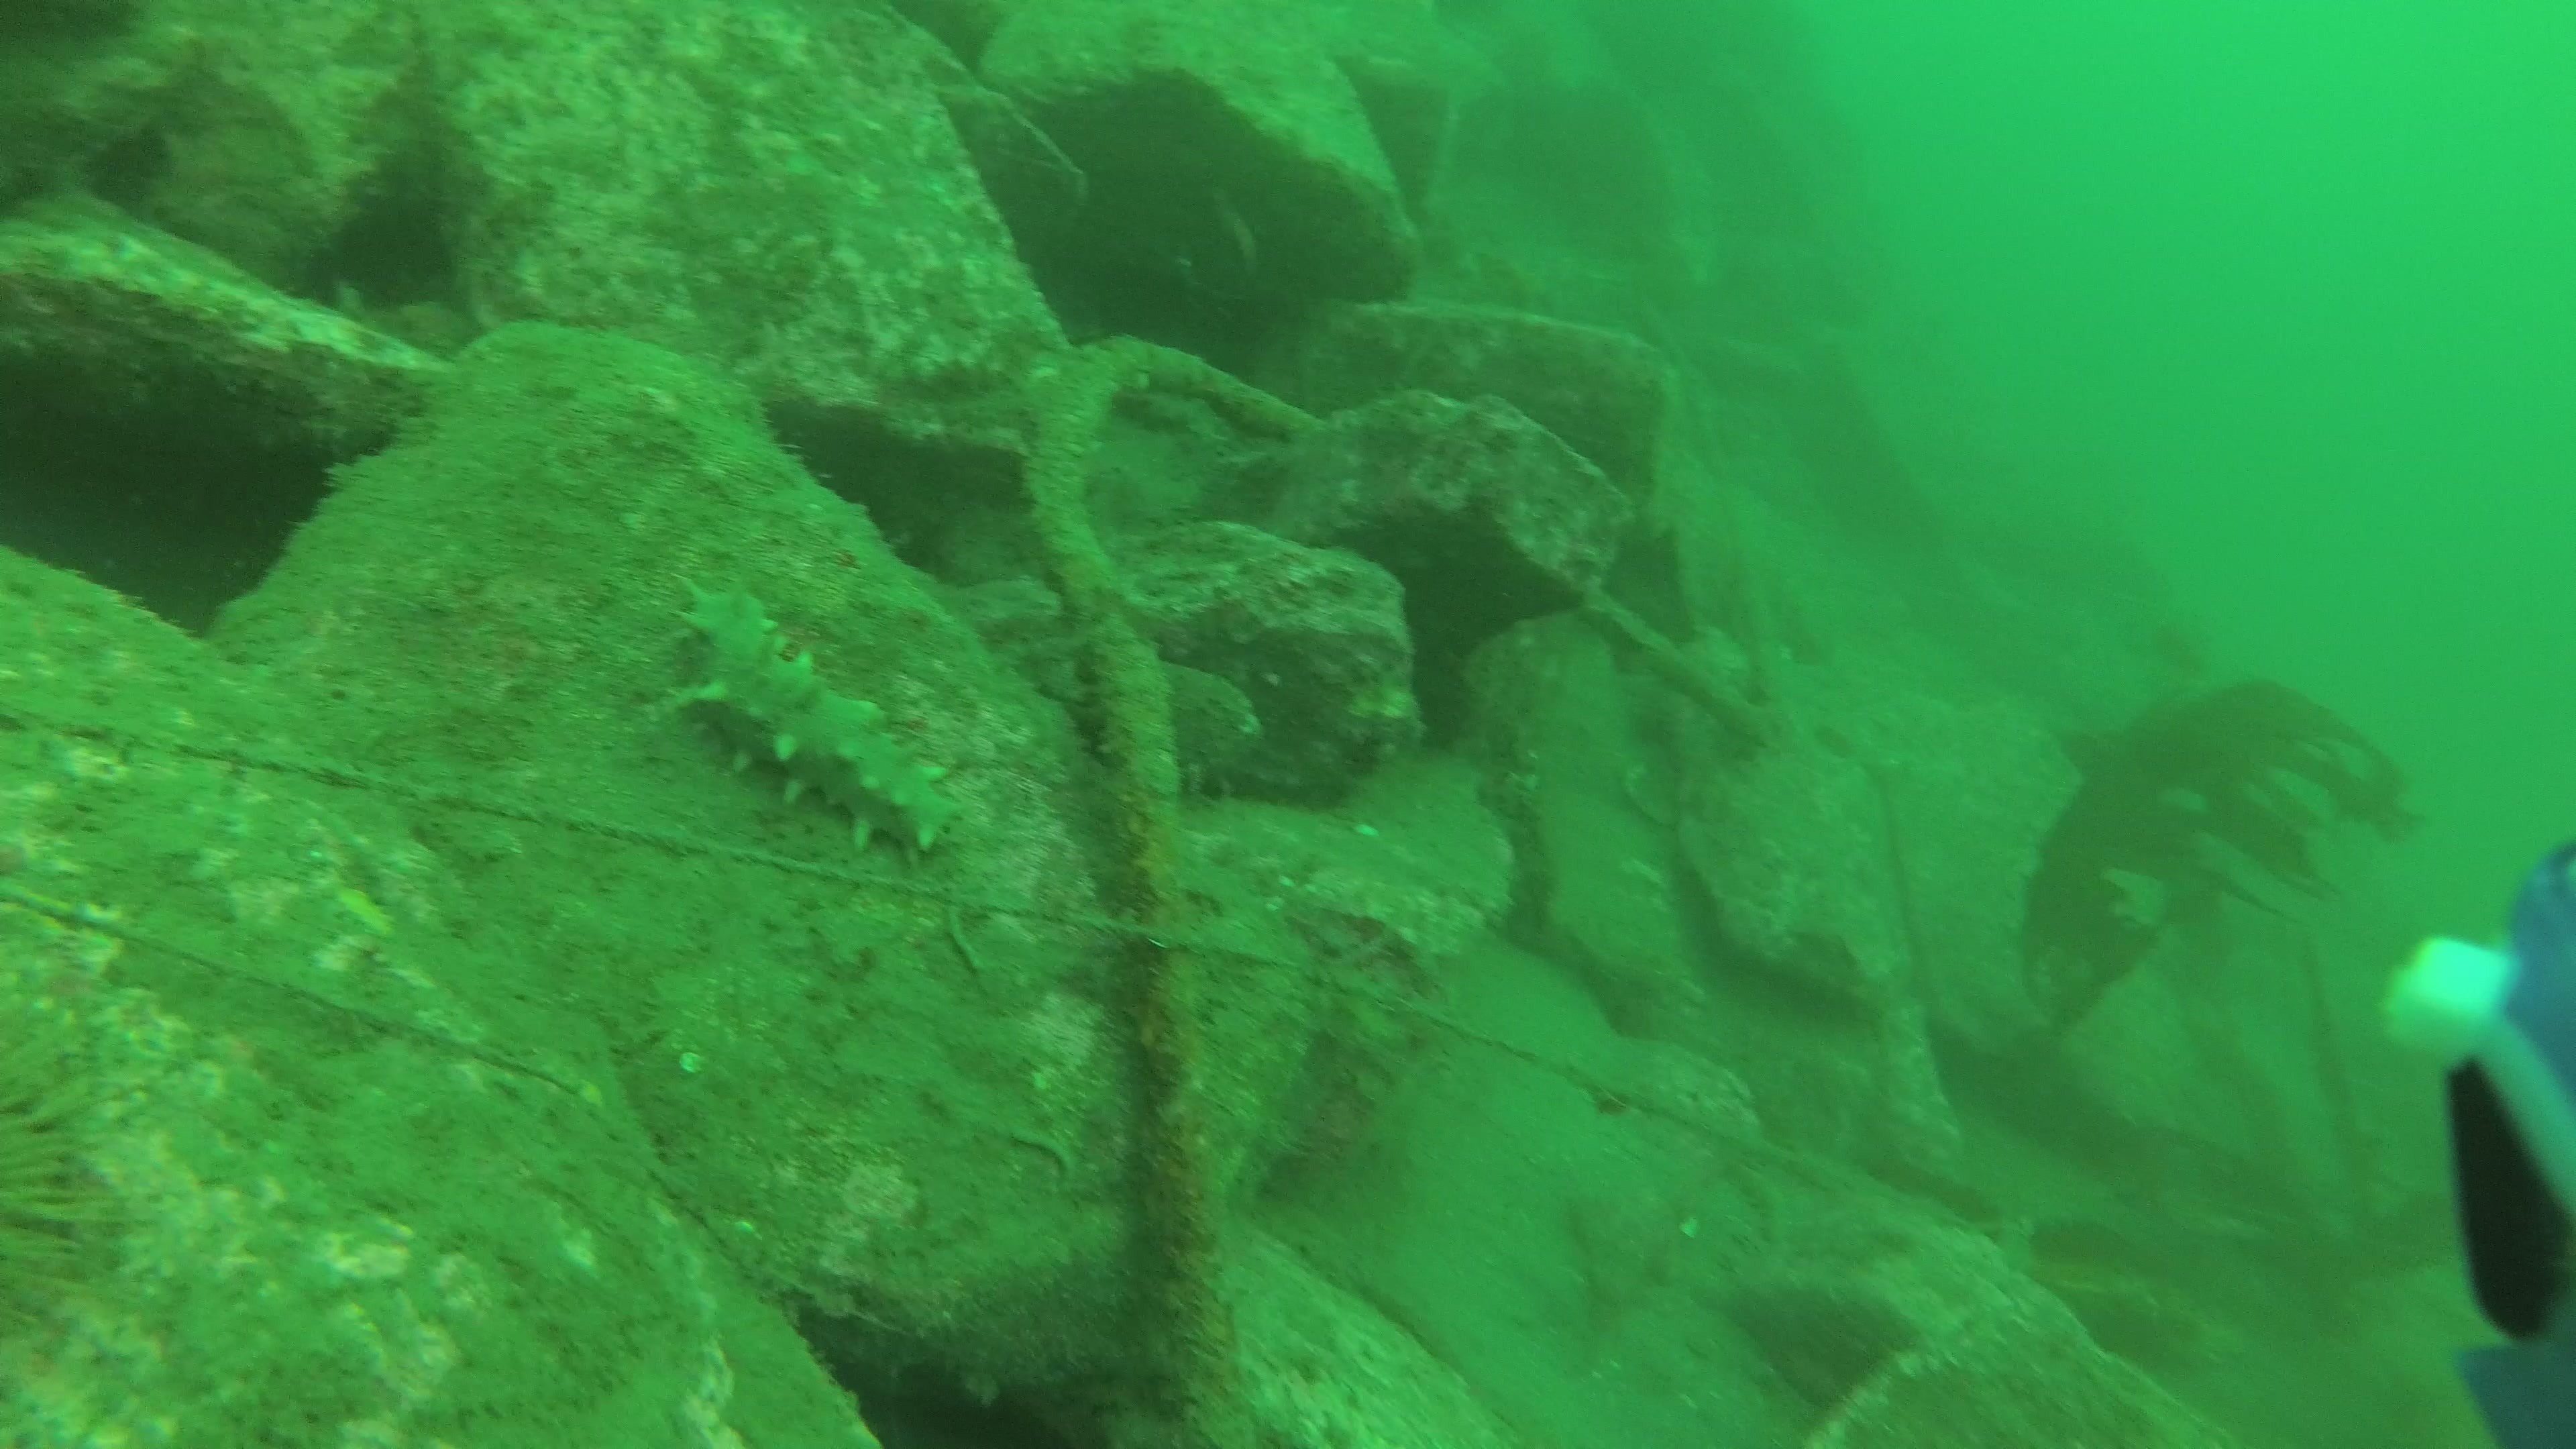holothurian: (663, 556, 966, 867)
